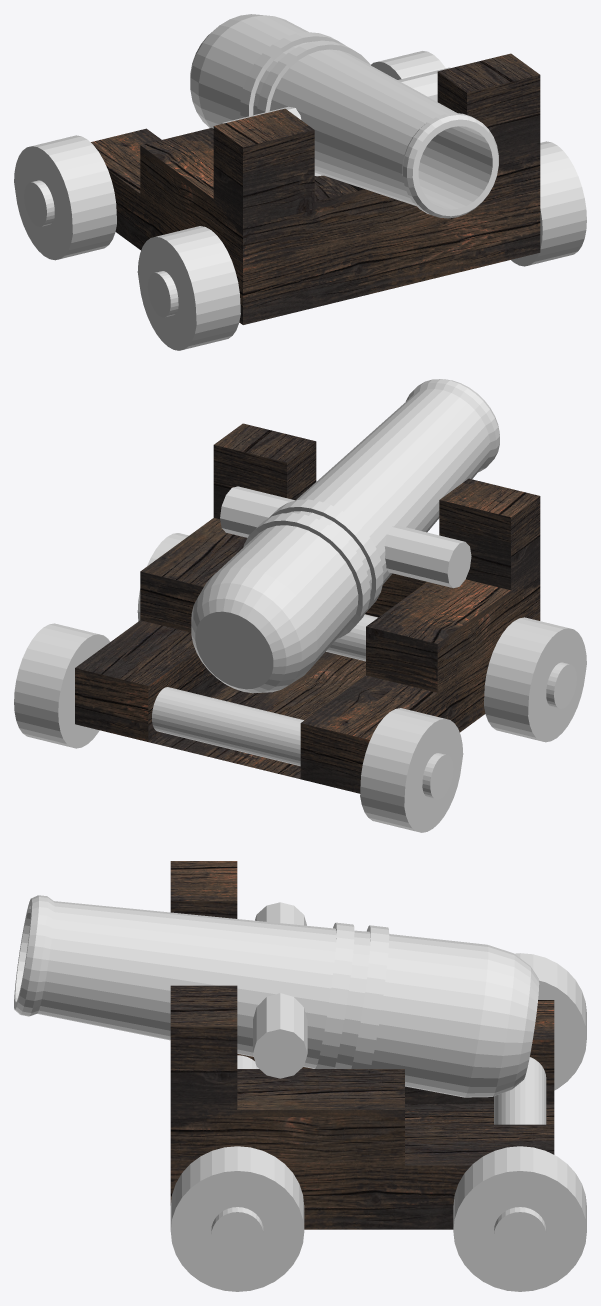
Rendered from Cannon.fbx.
3 views of the same model, one above another, from view 1: azimuth 30°, elevation 25°; view 2: azimuth 150°, elevation 25°; view 3: azimuth 270°, elevation 25° (orthographic). The views are drawn at different scales.
Visible parts, largest first — view 1: Base, Cannon, Wheels; view 2: Base, Cannon, Wheels; view 3: Cannon, Base, Wheels.
Boxes of the visible parts, bbox=[...] form: Base: bbox=[91, 53, 540, 324]; Cannon: bbox=[190, 14, 498, 218]; Wheels: bbox=[14, 51, 586, 350]; Base: bbox=[75, 423, 540, 793]; Cannon: bbox=[191, 379, 499, 693]; Wheels: bbox=[14, 533, 586, 832]; Cannon: bbox=[14, 895, 539, 1097]; Base: bbox=[170, 861, 554, 1229]; Wheels: bbox=[170, 953, 586, 1291].
Size of the model in its own units: 92.59 by 98.75 by 53.61.
Materials: 2 (1 with a texture image).
